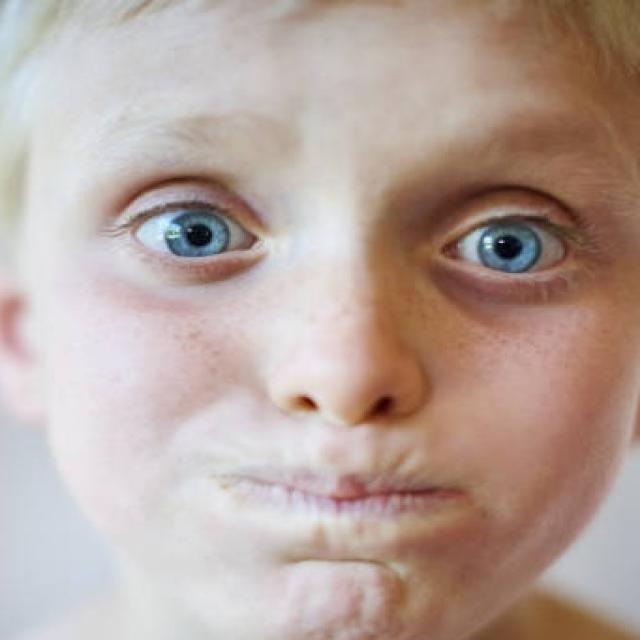Anxiety: (17, 0, 638, 638)
